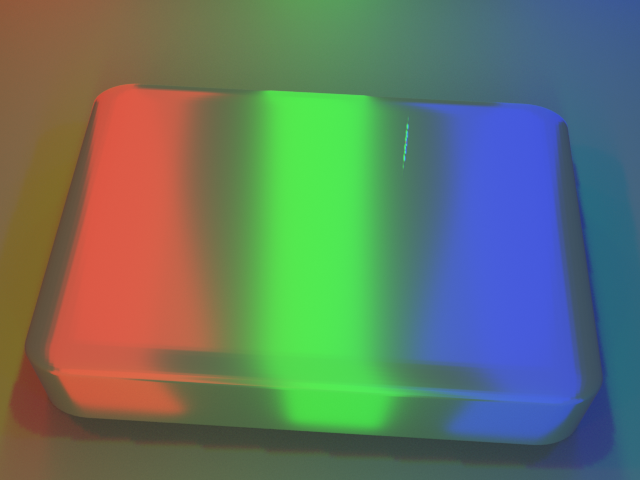scratch: (256, 74, 576, 220)
